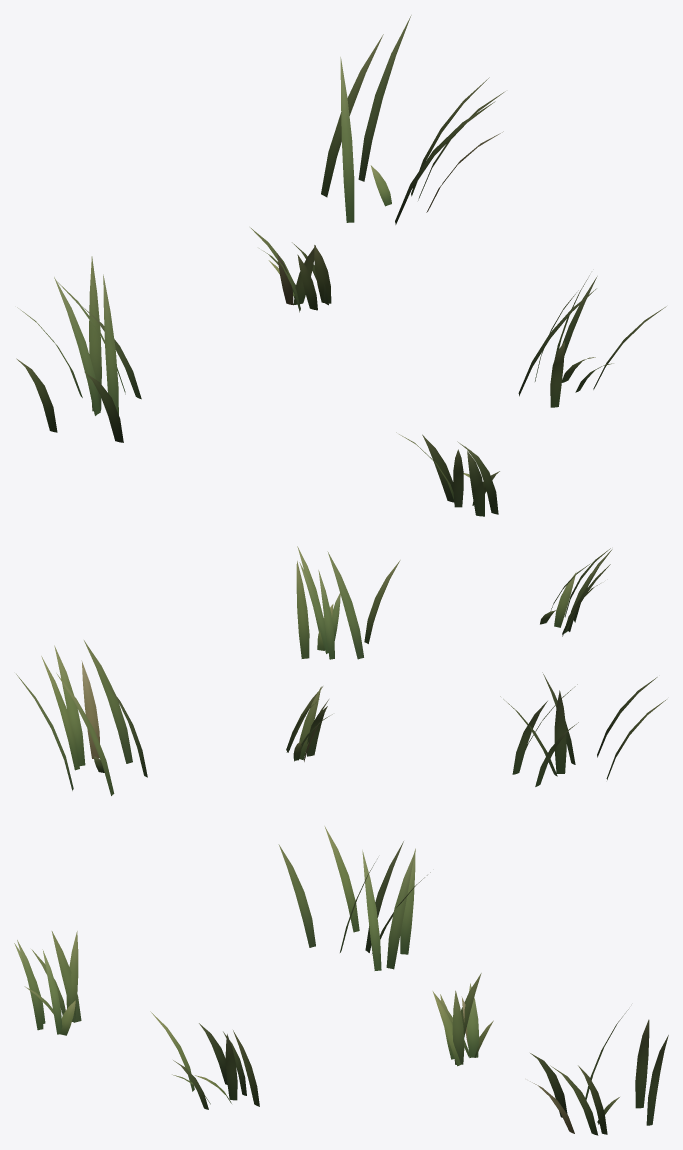
Rendered from meadow_low.gltf.
The picture shows the model from 3 angles, top to bottom: view 1: azimuth 30°, elevation 25°; view 2: azimuth 150°, elevation 25°; view 3: azimuth 270°, elevation 25°; orthographic projection. The views are drawn at different scales.
Visible parts, largest first — view 1: meadow_low; view 2: meadow_low; view 3: meadow_low.
Part boxes in pixels (x1,y1,x2,y2): meadow_low: (16,15,666,516); meadow_low: (16,546,666,795); meadow_low: (14,826,668,1135).
Size of the model in its own units: 1.06 by 0.2285 by 1.17.
Materials: 3 (3 with a texture image).
